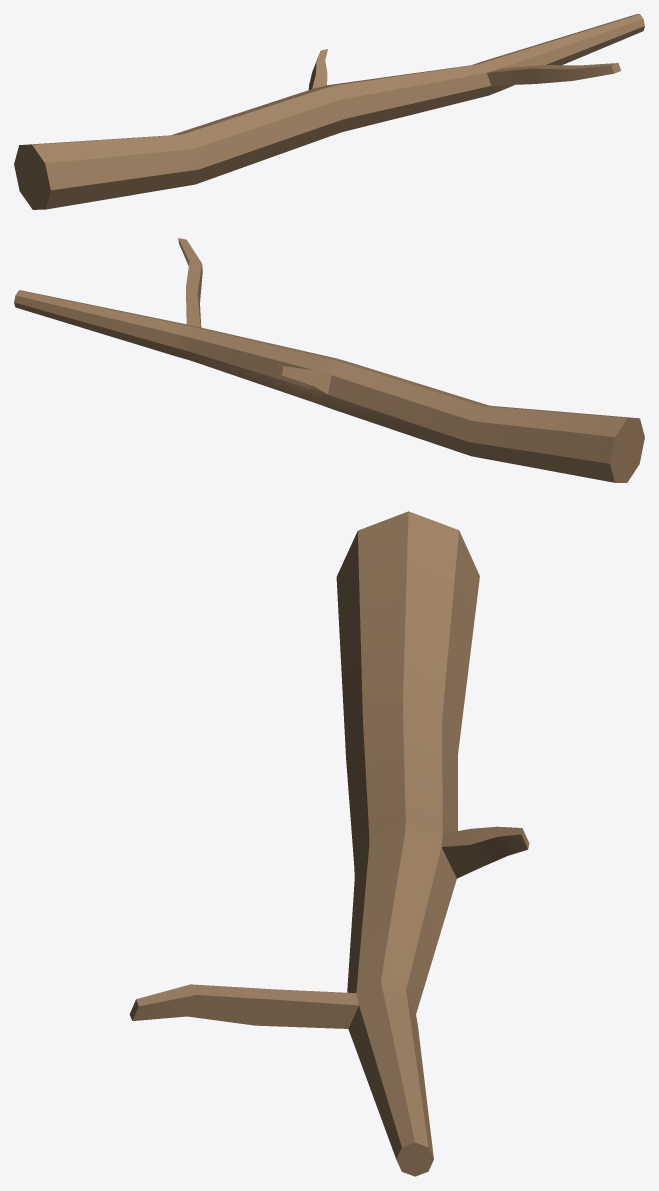
File: SM_Stick.fbx
3 views of the same model, one above another, from view 1: azimuth 30°, elevation 25°; view 2: azimuth 150°, elevation 25°; view 3: azimuth 270°, elevation 25° (orthographic). The views are drawn at different scales.
Parts seen in each view (by area): view 1: SM_Stick; view 2: SM_Stick; view 3: SM_Stick.
Part boxes in pixels (left/top/right/bottom): SM_Stick: left=14, top=14, right=644, bottom=209; SM_Stick: left=14, top=238, right=644, bottom=482; SM_Stick: left=129, top=511, right=529, bottom=1176.
Bounding box in the file's own units: 49.85 × 6.29 × 14.2.
